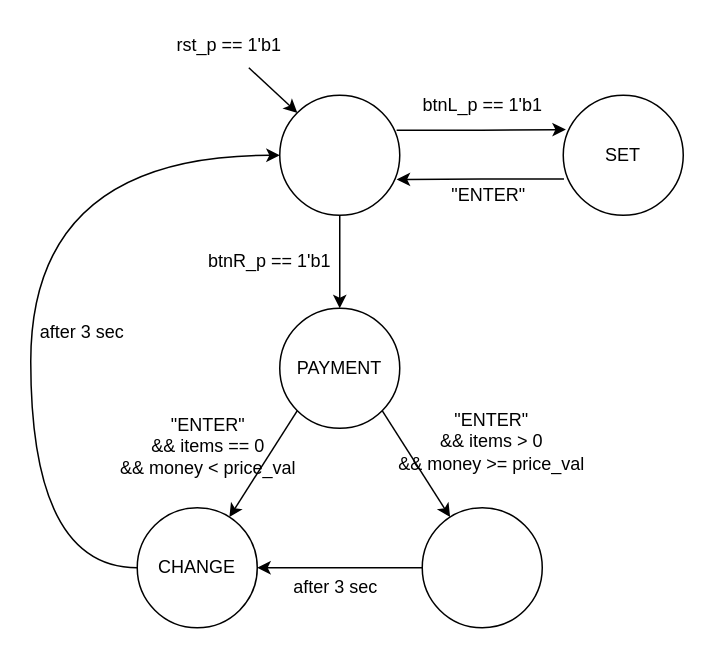
This 710x654 diagram has some shape labels left out. The shapes that lost their labels are listed below. From the top down, each one's centre as x and y in pixels, then its label:
At (x=339, y=154): "IDLE".
At (x=481, y=567): "BUY".
